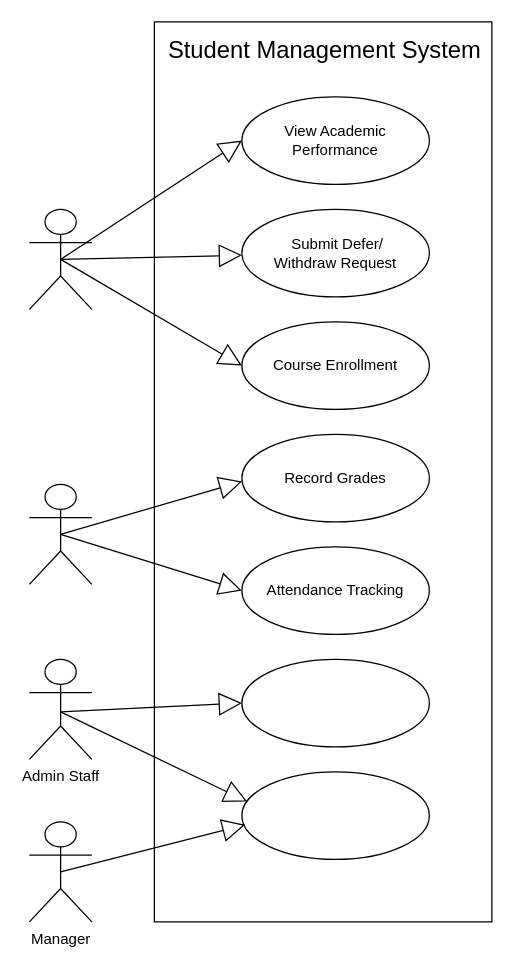
Image size: 514x970. Some labels were removed from this diagram. The centre of each missing label's shape, as x and y in pixels:
Generate Reports: (335,815)
Student: (60,258)
Student Registration: (335,702)
Teacher: (60,533)
